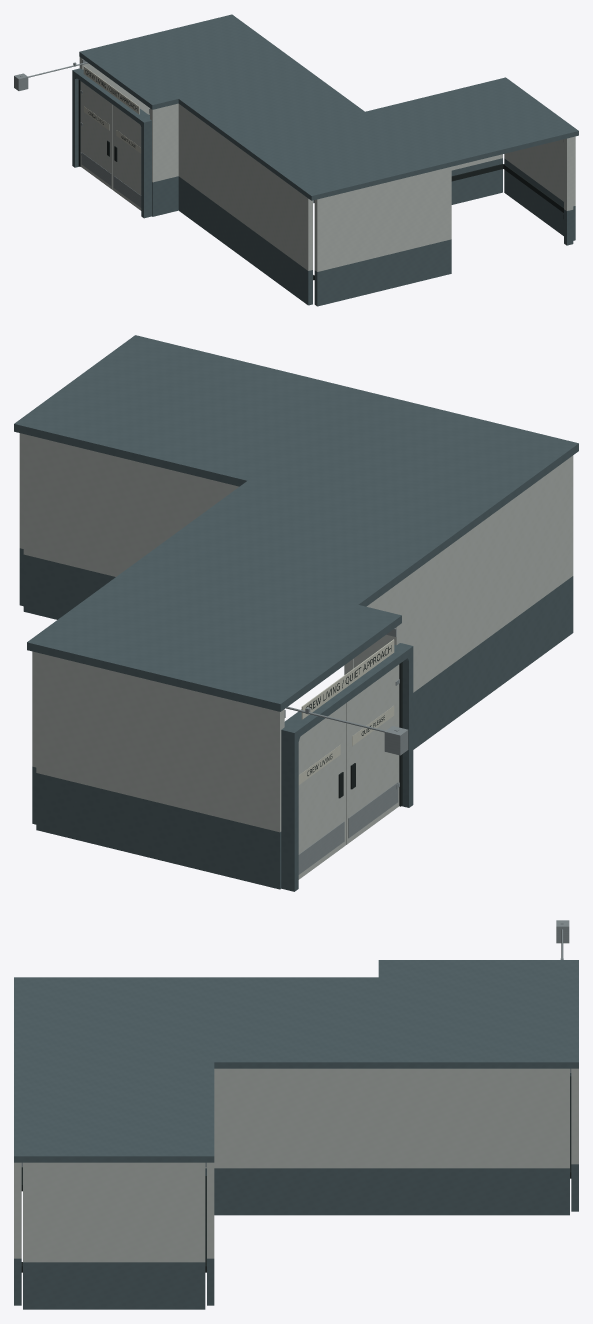
The model's file is AST-STF-010_home_dogleg_labels002.glb.
The picture shows the model from 3 angles, top to bottom: view 1: azimuth 30°, elevation 25°; view 2: azimuth 150°, elevation 25°; view 3: azimuth 270°, elevation 25°; orthographic projection. The views are drawn at different scales.
Parts seen in each view (by area): view 1: HOME_BATCH_000_ASTRAEA_staff_bluegrey_paint, HOME_BATCH_008_ASTRAEA_staff_white_paint, HOME_BATCH_001_ASTRAEA_staff_bluegrey_paint, HOME_BATCH_009_ASTRAEA_staff_white_paint, HOME_BATCH_014_ASTRAEA_staff_bluegrey_paint, HOME_BATCH_020_ASTRAEA_staff_white_paint, HOME_BATCH_026_ASTRAEA_staff_white_paint, HOME_BATCH_005_ASTRAEA_staff_rubber, HOME_BATCH_002_ASTRAEA_staff_label, HOME_BATCH_021_ASTRAEA_staff_zinc; view 2: HOME_BATCH_000_ASTRAEA_staff_bluegrey_paint, HOME_BATCH_008_ASTRAEA_staff_white_paint, HOME_BATCH_009_ASTRAEA_staff_white_paint, HOME_BATCH_014_ASTRAEA_staff_bluegrey_paint, HOME_BATCH_026_ASTRAEA_staff_white_paint, HOME_BATCH_020_ASTRAEA_staff_white_paint, HOME_BATCH_001_ASTRAEA_staff_bluegrey_paint, HOME_BATCH_002_ASTRAEA_staff_label, HOME_BATCH_027_ASTRAEA_staff_zinc, HOME_BATCH_021_ASTRAEA_staff_zinc, HOME_BATCH_012_ASTRAEA_staff_zinc; view 3: HOME_BATCH_000_ASTRAEA_staff_bluegrey_paint, HOME_BATCH_008_ASTRAEA_staff_white_paint, HOME_BATCH_009_ASTRAEA_staff_white_paint, HOME_BATCH_001_ASTRAEA_staff_bluegrey_paint.
Boxes of the visible parts, <box> form: HOME_BATCH_000_ASTRAEA_staff_bluegrey_paint: <box>79,14,578,306</box>; HOME_BATCH_008_ASTRAEA_staff_white_paint: <box>79,57,470,271</box>; HOME_BATCH_001_ASTRAEA_staff_bluegrey_paint: <box>471,158,575,245</box>; HOME_BATCH_009_ASTRAEA_staff_white_paint: <box>471,136,575,210</box>; HOME_BATCH_014_ASTRAEA_staff_bluegrey_paint: <box>72,68,151,218</box>; HOME_BATCH_020_ASTRAEA_staff_white_paint: <box>80,81,112,189</box>; HOME_BATCH_026_ASTRAEA_staff_white_paint: <box>113,105,141,210</box>; HOME_BATCH_005_ASTRAEA_staff_rubber: <box>471,164,563,218</box>; HOME_BATCH_002_ASTRAEA_staff_label: <box>83,66,139,114</box>; HOME_BATCH_021_ASTRAEA_staff_zinc: <box>81,152,111,185</box>; HOME_BATCH_000_ASTRAEA_staff_bluegrey_paint: <box>14,335,578,889</box>; HOME_BATCH_008_ASTRAEA_staff_white_paint: <box>32,447,573,832</box>; HOME_BATCH_009_ASTRAEA_staff_white_paint: <box>19,433,76,567</box>; HOME_BATCH_014_ASTRAEA_staff_bluegrey_paint: <box>281,643,413,891</box>; HOME_BATCH_026_ASTRAEA_staff_white_paint: <box>346,664,399,844</box>; HOME_BATCH_020_ASTRAEA_staff_white_paint: <box>298,703,345,879</box>; HOME_BATCH_001_ASTRAEA_staff_bluegrey_paint: <box>19,548,76,619</box>; HOME_BATCH_002_ASTRAEA_staff_label: <box>301,639,394,719</box>; HOME_BATCH_027_ASTRAEA_staff_zinc: <box>348,782,398,838</box>; HOME_BATCH_021_ASTRAEA_staff_zinc: <box>298,821,344,874</box>; HOME_BATCH_012_ASTRAEA_staff_zinc: <box>286,706,408,755</box>; HOME_BATCH_000_ASTRAEA_staff_bluegrey_paint: <box>14,960,578,1215</box>; HOME_BATCH_008_ASTRAEA_staff_white_paint: <box>205,1068,578,1168</box>; HOME_BATCH_009_ASTRAEA_staff_white_paint: <box>14,1162,214,1262</box>; HOME_BATCH_001_ASTRAEA_staff_bluegrey_paint: <box>14,1258,214,1309</box>.
Size of the model in its own units: 11.33 by 3.34 by 11.16.
6 materials, 6 textured.
